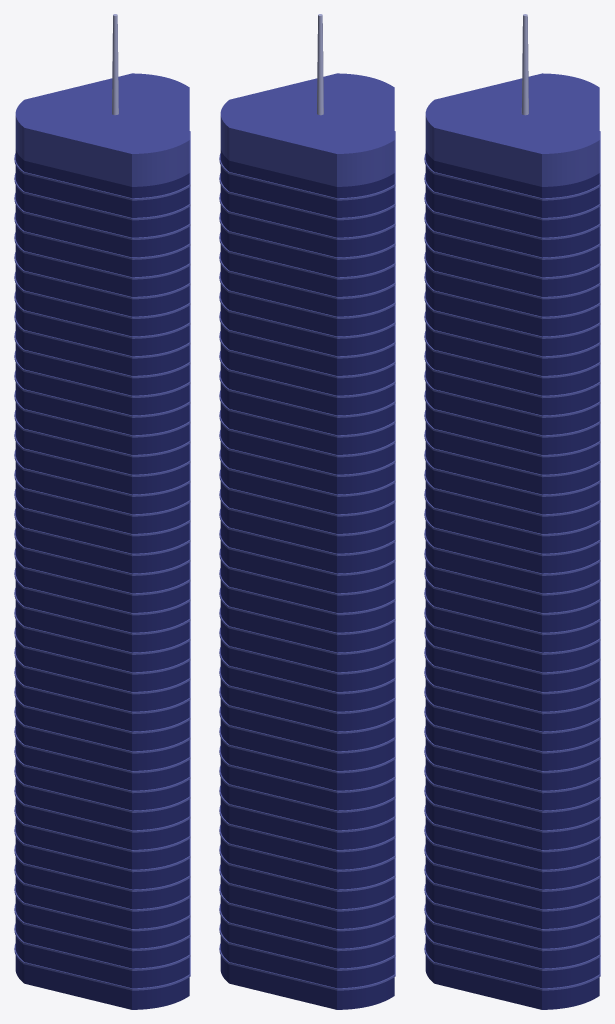
Rendered from towerTri.glb.
3 renders of one model, left to right at view 1: azimuth 30°, elevation 25°; view 2: azimuth 150°, elevation 25°; view 3: azimuth 270°, elevation 25°, orthographic.
Parts seen in each view (by area): view 1: baked0, baked1, baked2, baked3; view 2: baked0, baked1, baked2, baked3; view 3: baked0, baked1, baked2, baked3.
Boxes of the visible parts, x1,y1,x2,y2 form: baked0: (15, 149, 189, 1009); baked1: (14, 131, 190, 990); baked2: (15, 73, 189, 186); baked3: (112, 14, 118, 115); baked0: (220, 149, 394, 1009); baked1: (219, 131, 395, 990); baked2: (220, 73, 394, 186); baked3: (317, 14, 323, 115); baked0: (425, 149, 599, 1009); baked1: (424, 131, 600, 990); baked2: (425, 73, 599, 186); baked3: (521, 14, 528, 115).
Bounding box in the file's own units: 31.9 × 174 × 29.09.
